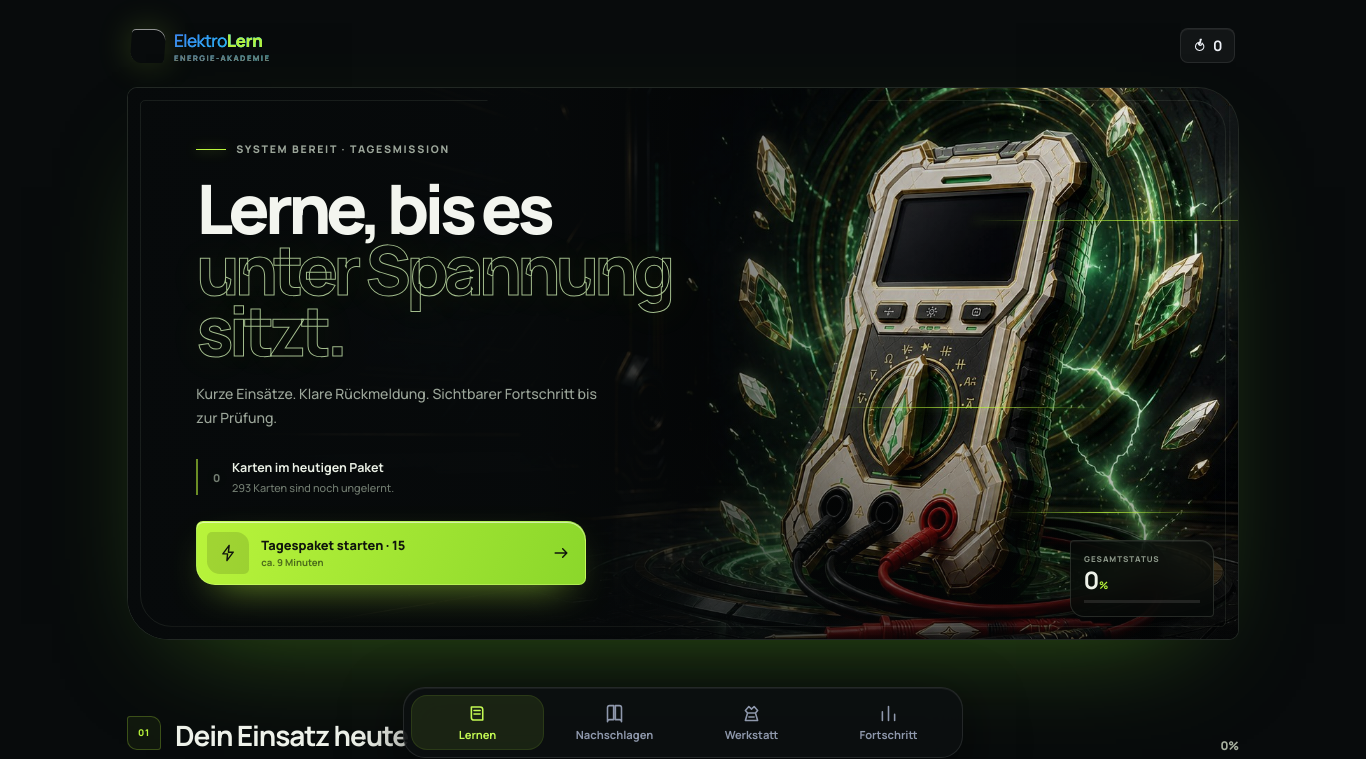
Test case: App smoke test › navigiert zu Fortschritt und zeigt Statistik-Kacheln
Click the button "Fortschritt".
click(888, 722)  # box [822, 695, 955, 750]
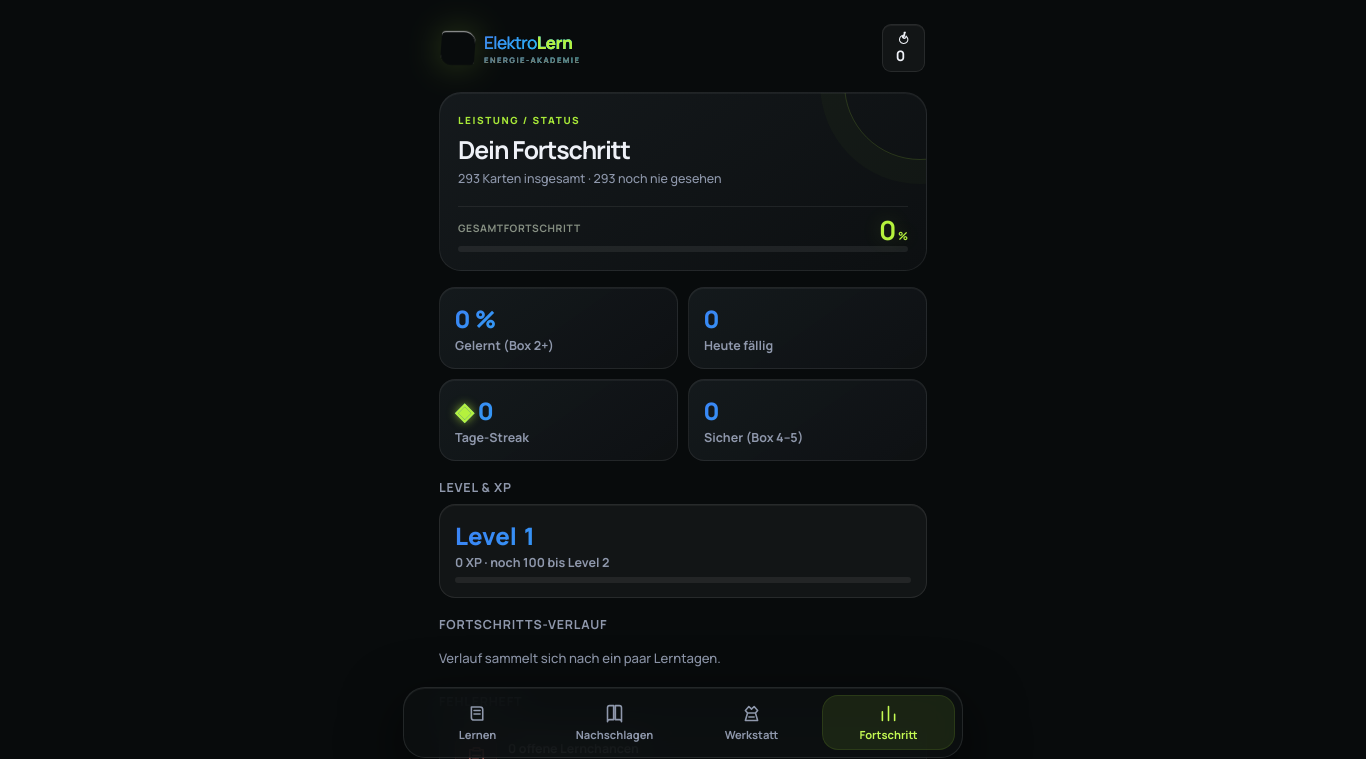
Result: the heading "Dein Fortschritt" is shown at [458, 133, 630, 166]
Result: the text "Gelernt (Box 2+)" is shown at [455, 337, 554, 354]
